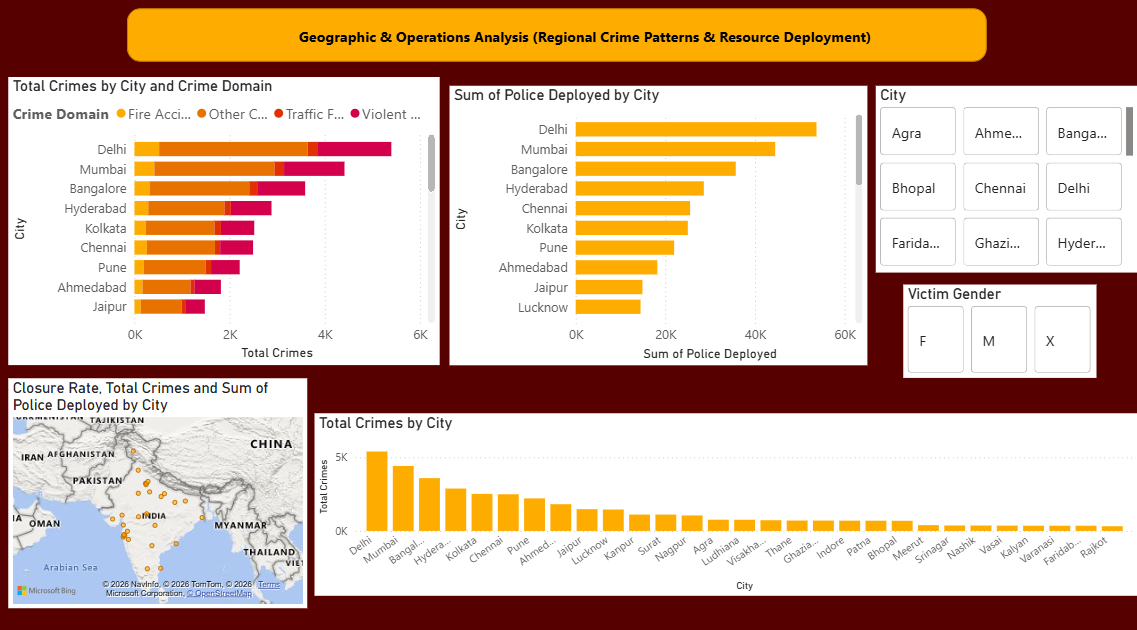

This screenshot's page, from the dashboard's own definition file:
{"tool":"powerbi","page":{"name":"Page 4 ","canvas":[1280,720],"ordinal":3},"visuals":[{"type":"shape","box":[145.2,12.7,964.5,59.9],"z":0},{"type":"textbox","box":[333.8,27.4,742.6,45.3],"z":1000},{"type":"columnChart","fields":{"Category":["Crime.City"],"Y":["Crime.Total Crimes"]},"box":[356.4,467.3,923.8,205],"z":2000},{"type":"barChart","fields":{"Category":["Crime.City"],"Y":["Sum(Crime.Police Deployed)"]},"box":[507.8,98.9,468.5,313.5],"z":3000},{"type":"barChart","fields":{"Category":["Crime.City"],"Y":["Crime.Total Crimes"],"Series":["Crime.Crime Domain"]},"box":[11.9,89.4,484,323],"z":5000},{"type":"map","fields":{"Category":["Crime.City"]},"box":[11.9,427.9,335,257.5],"z":6000},{"type":"advancedSlicerVisual","fields":{"Values":["Crime.City"]},"box":[985.8,98.9,294.4,209.8],"z":7000},{"type":"advancedSlicerVisual","fields":{"Values":["Crime.Victim Gender"]},"box":[1016.8,323,216.9,104.9],"z":9000}]}

Visuals, with their boxes in screenshot pixels (x1, y1, x2, y2), scaled from the page's 1280x720 canvas onto the 1137x630 screenshot:
shape: 129 11 986 64
textbox: 297 24 956 64
columnChart - Crime.City x Crime.Total Crimes: 317 409 1136 588
barChart - Crime.City x Sum(Crime.Police Deployed): 451 87 867 361
barChart - Crime.City x Crime.Total Crimes: 11 78 440 361
map - Crime.City: 11 374 308 600
advancedSlicerVisual - Crime.City: 876 87 1136 270
advancedSlicerVisual - Crime.Victim Gender: 903 283 1096 374
